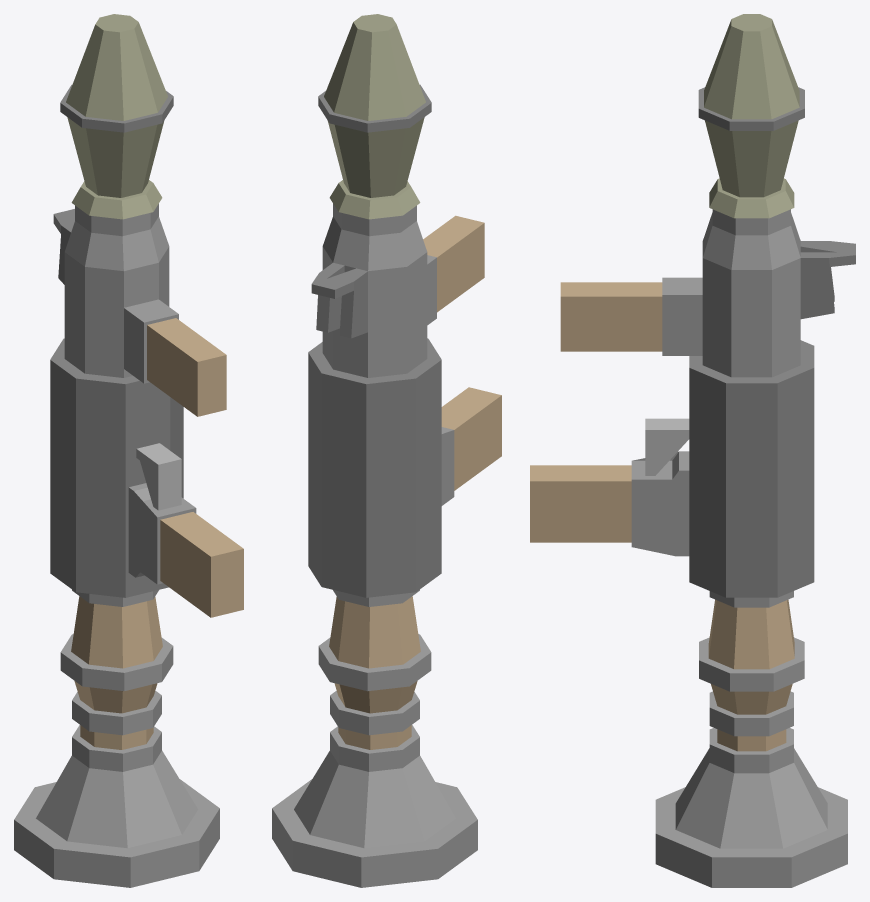
File: rocketlauncher.fbx
3 views of the same model, side by side, from view 1: azimuth 30°, elevation 25°; view 2: azimuth 150°, elevation 25°; view 3: azimuth 270°, elevation 25° (orthographic).
Visible parts, largest first — view 1: imagetostl_mesh105, imagetostl_mesh91, imagetostl_mesh146, imagetostl_mesh302, imagetostl_mesh291, imagetostl_mesh165, imagetostl_mesh361, imagetostl_mesh76, imagetostl_mesh313, imagetostl_mesh152, imagetostl_mesh375, imagetostl_mesh74 (+48 smaller); view 2: imagetostl_mesh90, imagetostl_mesh99, imagetostl_mesh91, imagetostl_mesh376, imagetostl_mesh300, imagetostl_mesh303, imagetostl_mesh122, imagetostl_mesh165, imagetostl_mesh361, imagetostl_mesh69, imagetostl_mesh315, imagetostl_mesh70 (+43 smaller); view 3: imagetostl_mesh186, imagetostl_mesh122, imagetostl_mesh110, imagetostl_mesh163, imagetostl_mesh359, imagetostl_mesh154, imagetostl_mesh347, imagetostl_mesh289, imagetostl_mesh348, imagetostl_mesh140, imagetostl_mesh290, imagetostl_mesh304 (+31 smaller).
Part boxes in pixels (x1,y1,x2,y2): imagetostl_mesh105: (76,378,125,597); imagetostl_mesh91: (50,360,75,591); imagetostl_mesh146: (85,267,123,377); imagetostl_mesh302: (67,768,127,848); imagetostl_mesh291: (123,764,181,847); imagetostl_mesh165: (160,520,210,617); imagetostl_mesh361: (147,325,197,416); imagetostl_mesh76: (85,30,123,120); imagetostl_mesh313: (54,849,130,887); imagetostl_mesh152: (128,487,157,583); imagetostl_mesh375: (64,252,84,373); imagetostl_mesh74: (120,29,157,120); imagetostl_mesh90: (366,378,415,597); imagetostl_mesh99: (321,373,366,597); imagetostl_mesh91: (416,360,441,591); imagetostl_mesh376: (368,267,406,377); imagetostl_mesh300: (364,768,424,848); imagetostl_mesh303: (310,764,368,847); imagetostl_mesh122: (308,353,321,586); imagetostl_mesh165: (454,395,501,490); imagetostl_mesh361: (437,223,484,312); imagetostl_mesh69: (368,30,406,120); imagetostl_mesh315: (361,849,438,887); imagetostl_mesh70: (334,29,371,120); imagetostl_mesh186: (726,383,777,597); imagetostl_mesh122: (777,368,814,597); imagetostl_mesh110: (689,368,725,597); imagetostl_mesh163: (530,481,631,542); imagetostl_mesh359: (560,296,662,351); imagetostl_mesh154: (631,470,689,556); imagetostl_mesh347: (731,270,771,377); imagetostl_mesh289: (720,773,782,848); imagetostl_mesh348: (702,258,731,376); imagetostl_mesh140: (772,258,800,377); imagetostl_mesh290: (676,763,734,848); imagetostl_mesh304: (769,763,827,848).
Bounding box in the file's own units: 3.42 × 16.14 × 5.78.
